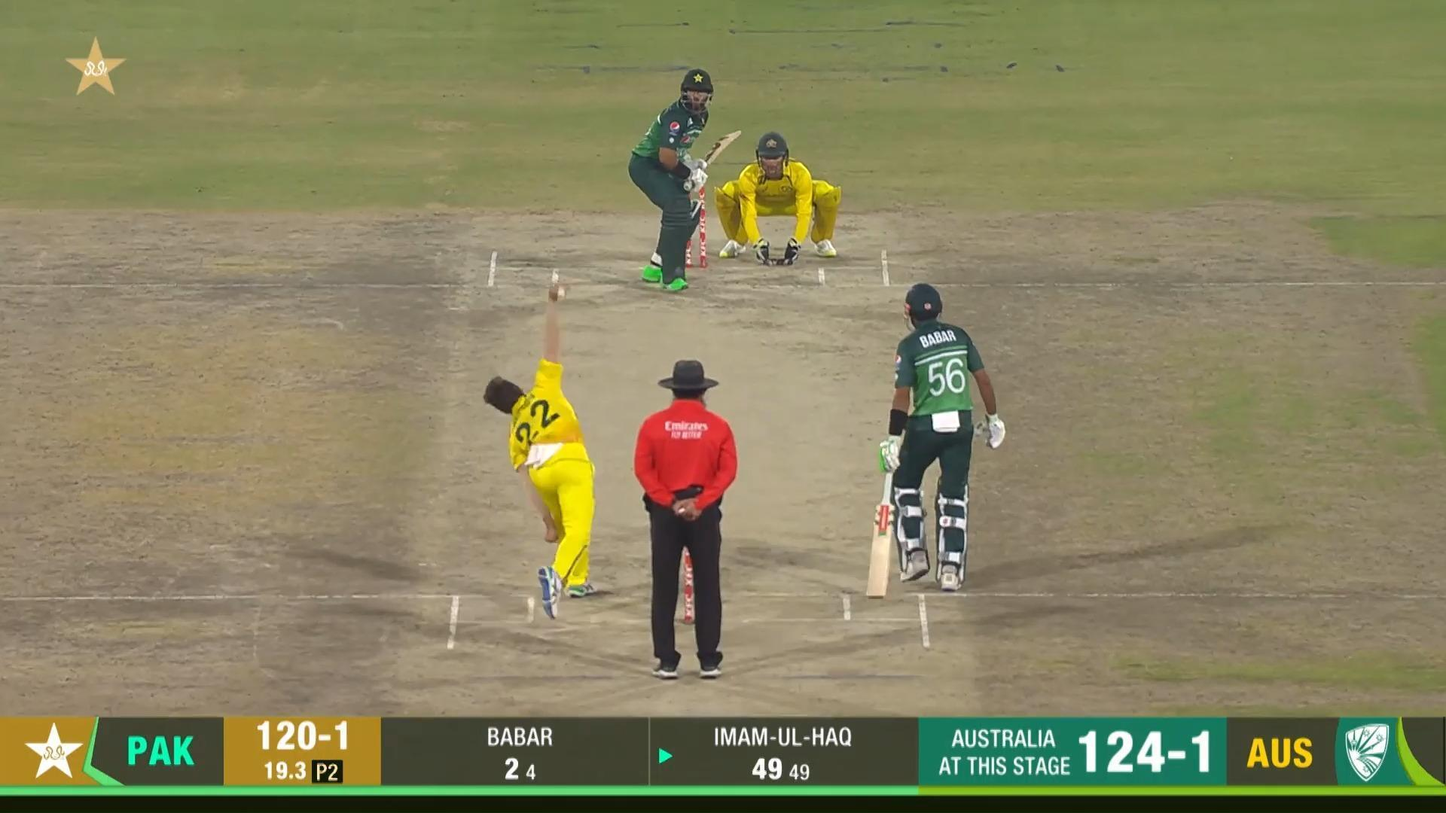BM 1: (627, 67, 744, 292)
BO: (482, 279, 598, 619)
